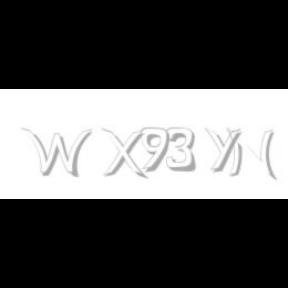3: (166, 128, 198, 172)
9: (140, 128, 170, 172)
N: (226, 128, 274, 180)
W: (20, 128, 92, 178)
X: (101, 128, 145, 180)
y: (205, 128, 245, 172)
